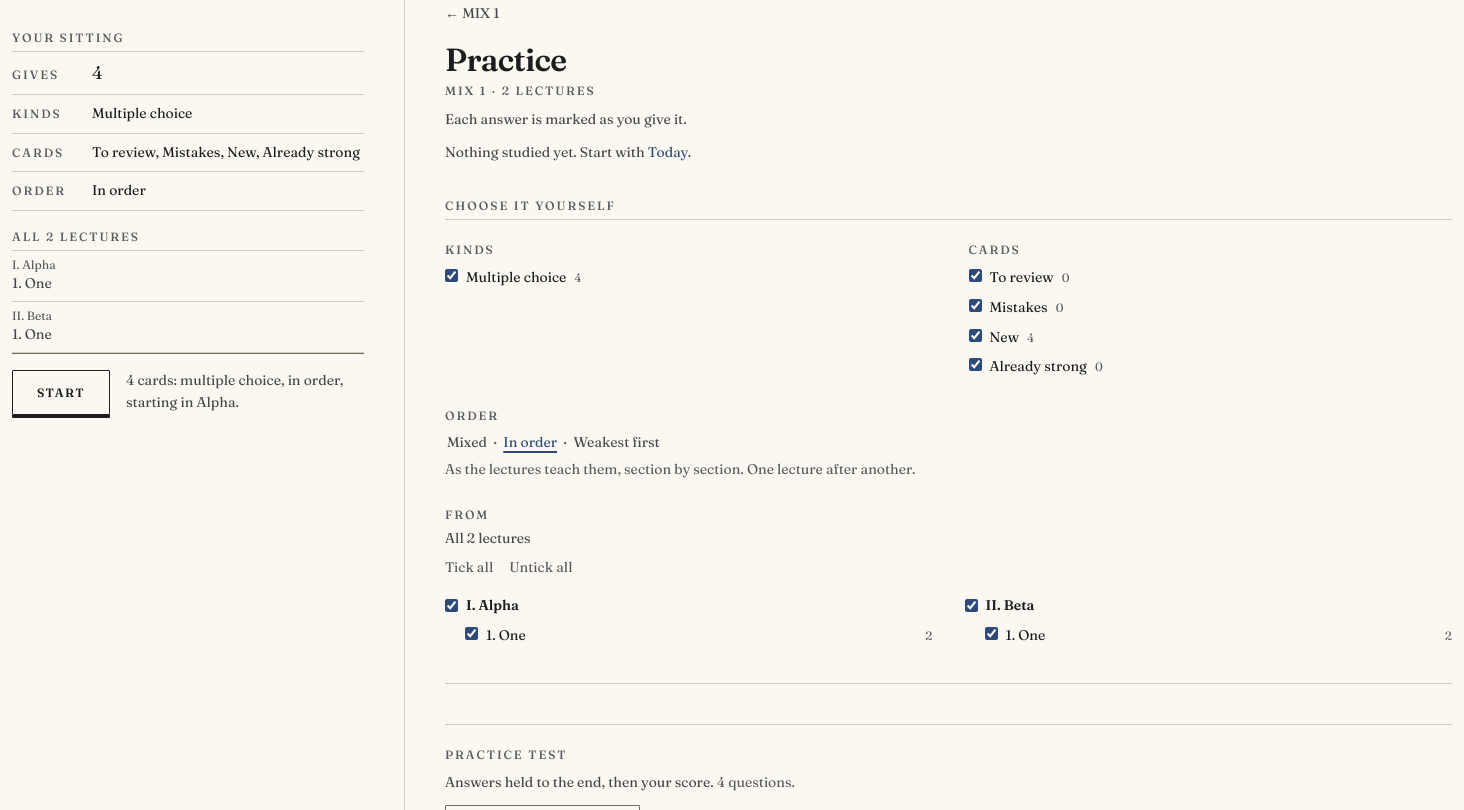
Scenario: a class's Practice: built by ticks › ticks whole lectures and single sections in and out, and the count follows
Click the checkbox labelled "I. Alpha" at (452, 606), box [445, 600, 458, 612]
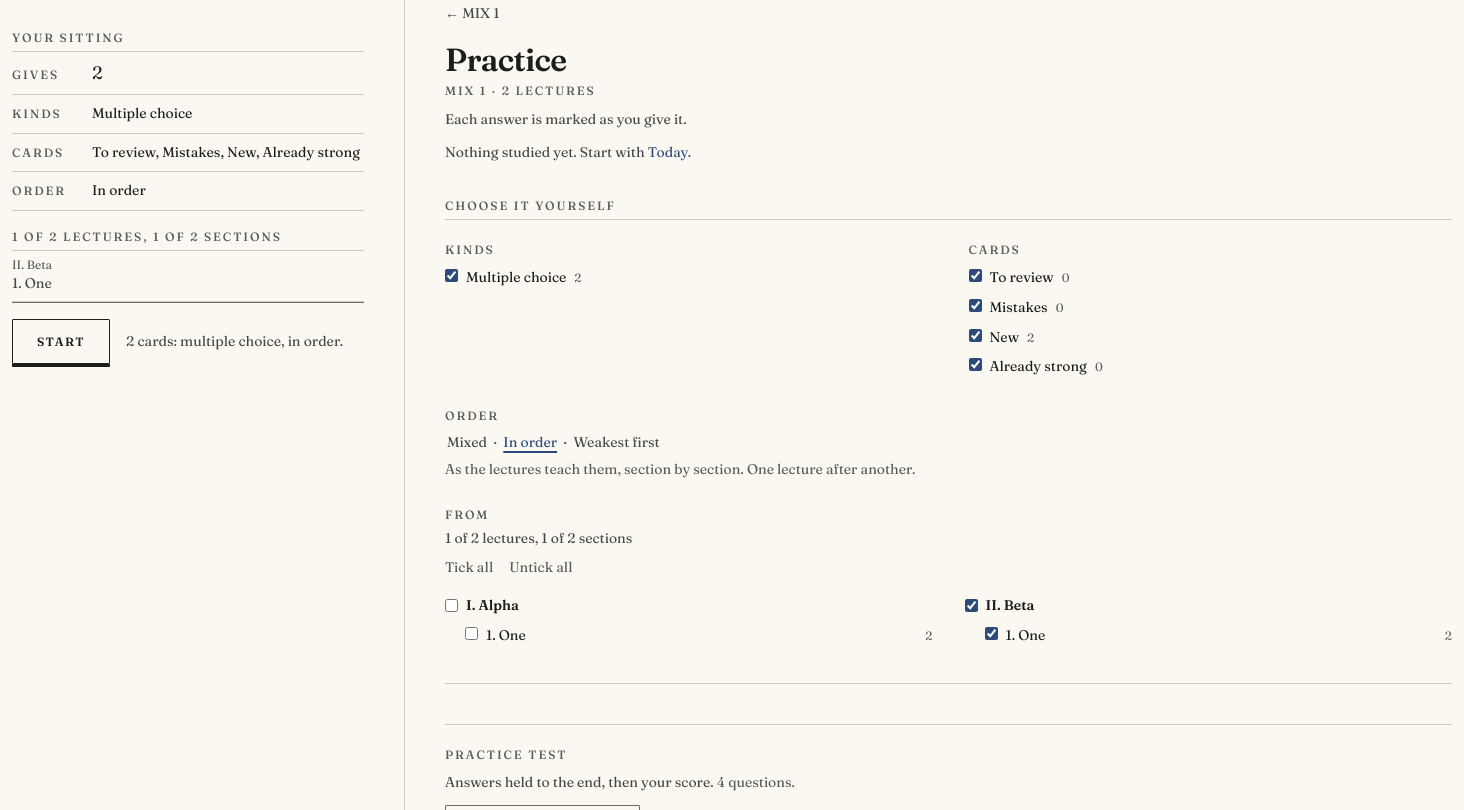
Result: the text "2 cards: multiple choice, in order." is shown at [126, 331, 343, 352]
Click the button "Untick all" at (541, 568), box [509, 558, 572, 579]
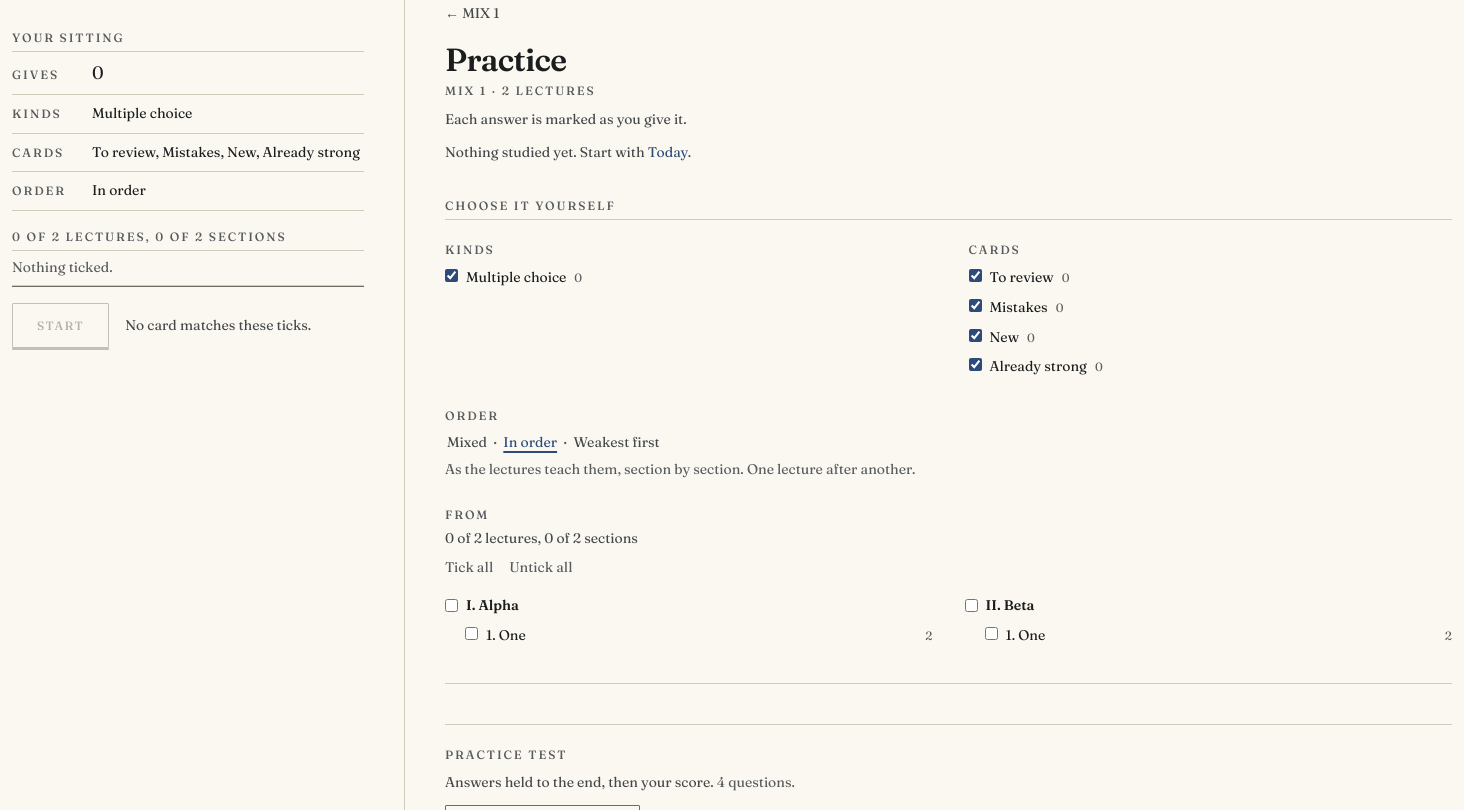
Result: the text "No card matches these ticks." is shown at [125, 315, 311, 336]
